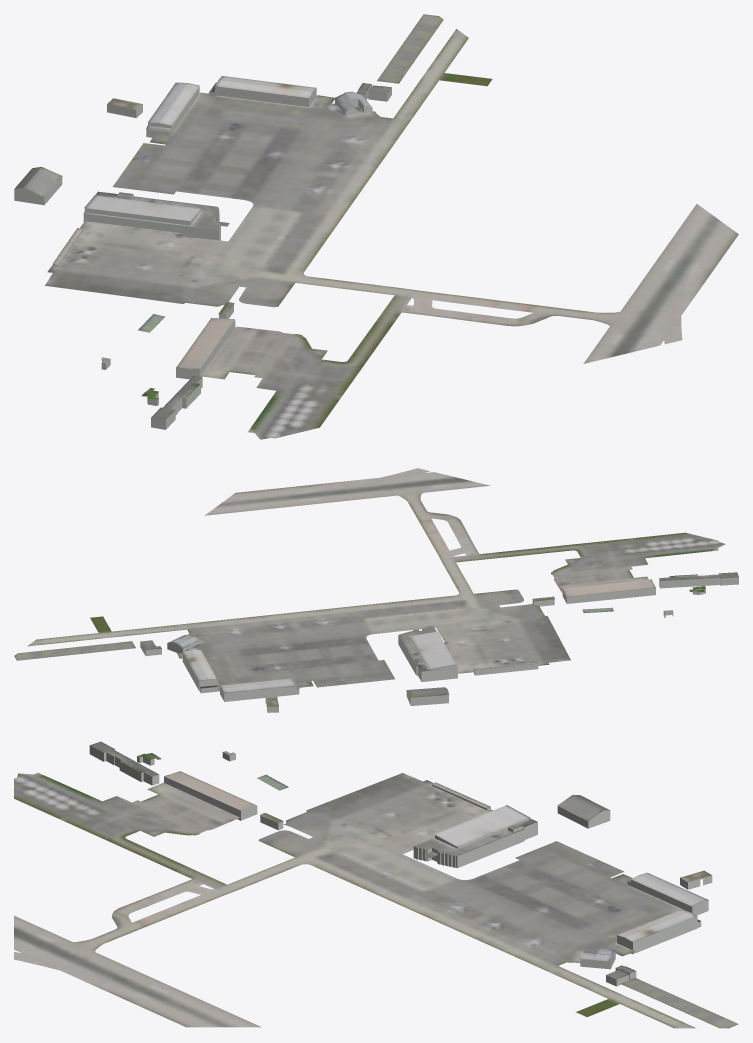
Rendered from LSGG_-2_-1.glb.
3 renders of one model, top to bottom at view 1: azimuth 30°, elevation 25°; view 2: azimuth 150°, elevation 25°; view 3: azimuth 270°, elevation 25°, orthographic. The views are drawn at different scales.
Visible parts, largest first — view 1: pavement_LSGG_pavement_4993_2242, pavement_LSGG_pavement_4993_2243, building_590ed71d9af0bb9c, building_1504d9b8463c897b, pavement_LSGG_pavement_4992_2242, building_240069eee0a8f909, building_e44a070f5c09df2a, building_e10849e099574db1, building_34994be836eff9ce, building_cd955b95536a7012; view 2: pavement_LSGG_pavement_4993_2242, pavement_LSGG_pavement_4993_2243, building_590ed71d9af0bb9c, building_1504d9b8463c897b, pavement_LSGG_pavement_4992_2242, building_e44a070f5c09df2a, building_240069eee0a8f909, building_e10849e099574db1, building_cd955b95536a7012, building_76b5365c279819c2, building_34994be836eff9ce; view 3: pavement_LSGG_pavement_4993_2242, pavement_LSGG_pavement_4993_2243, building_590ed71d9af0bb9c, building_240069eee0a8f909, pavement_LSGG_pavement_4992_2242, building_1504d9b8463c897b, building_e44a070f5c09df2a, building_e10849e099574db1, building_cd955b95536a7012, building_76b5365c279819c2, building_34994be836eff9ce, building_d53f45559e69cfc2 (+1 smaller).
Boxes of the visible parts, x1=… form: pavement_LSGG_pavement_4993_2242: x1=65, y1=107, x2=738, y2=431; pavement_LSGG_pavement_4993_2243: x1=117, y1=14, x2=492, y2=179; building_590ed71d9af0bb9c: x1=14, y1=167, x2=220, y2=229; building_1504d9b8463c897b: x1=107, y1=76, x2=315, y2=132; pavement_LSGG_pavement_4992_2242: x1=45, y1=257, x2=303, y2=439; building_240069eee0a8f909: x1=14, y1=177, x2=220, y2=240; building_e44a070f5c09df2a: x1=107, y1=86, x2=316, y2=137; building_e10849e099574db1: x1=176, y1=317, x2=234, y2=369; building_34994be836eff9ce: x1=101, y1=357, x2=201, y2=419; building_cd955b95536a7012: x1=101, y1=359, x2=202, y2=429; pavement_LSGG_pavement_4993_2242: x1=160, y1=468, x2=696, y2=680; pavement_LSGG_pavement_4993_2243: x1=14, y1=616, x2=382, y2=691; building_590ed71d9af0bb9c: x1=399, y1=626, x2=457, y2=697; building_1504d9b8463c897b: x1=183, y1=650, x2=299, y2=706; pavement_LSGG_pavement_4992_2242: x1=517, y1=535, x2=725, y2=667; building_e44a070f5c09df2a: x1=182, y1=652, x2=299, y2=712; building_240069eee0a8f909: x1=398, y1=629, x2=457, y2=705; building_e10849e099574db1: x1=563, y1=579, x2=655, y2=596; building_cd955b95536a7012: x1=659, y1=575, x2=738, y2=617; building_76b5365c279819c2: x1=562, y1=588, x2=655, y2=603; building_34994be836eff9ce: x1=659, y1=572, x2=738, y2=613; pavement_LSGG_pavement_4993_2242: x1=14, y1=791, x2=566, y2=1027; pavement_LSGG_pavement_4993_2243: x1=567, y1=846, x2=738, y2=1028; building_590ed71d9af0bb9c: x1=414, y1=794, x2=610, y2=856; building_240069eee0a8f909: x1=413, y1=806, x2=610, y2=868; pavement_LSGG_pavement_4992_2242: x1=14, y1=773, x2=446, y2=792; building_1504d9b8463c897b: x1=617, y1=870, x2=711, y2=941; building_e44a070f5c09df2a: x1=617, y1=875, x2=712, y2=954; building_e10849e099574db1: x1=164, y1=771, x2=256, y2=810; building_cd955b95536a7012: x1=89, y1=745, x2=235, y2=785; building_76b5365c279819c2: x1=164, y1=776, x2=257, y2=820; building_34994be836eff9ce: x1=90, y1=741, x2=235, y2=776; building_d53f45559e69cfc2: x1=580, y1=949, x2=636, y2=986.
Bounding box in the file's own units: 599 × 18.96 × 655.
3 materials, 2 textured.
